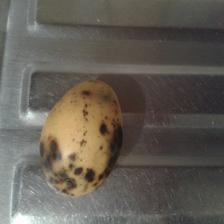Mango Semirotten: (37, 72, 127, 198)
